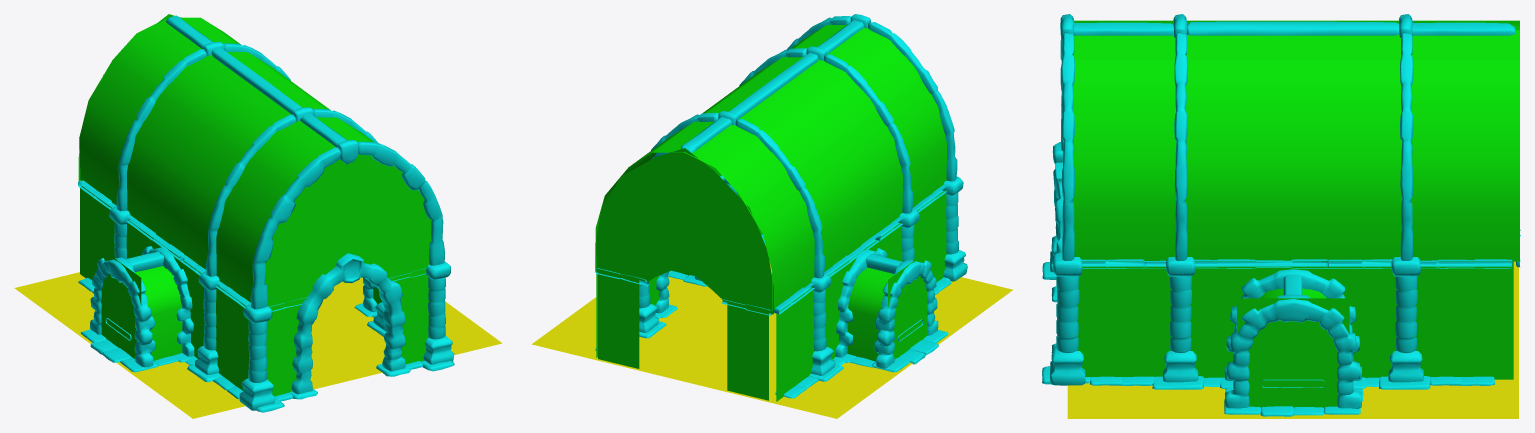
The model's file is Hallway_Straight_1.fbx.
The picture shows the model from 3 angles, left to right: view 1: azimuth 30°, elevation 25°; view 2: azimuth 150°, elevation 25°; view 3: azimuth 270°, elevation 25°; orthographic projection. The views are drawn at different scales.
Parts seen in each view (by area): view 1: Room_Straight_1:StraightPiece_1FinishedRoomsWalls, Room_Straight_1:StraightPiece_1FinishedRoomsFrame, Room_Straight_1:FloorStraightPiece_1FinishedRooms; view 2: Room_Straight_1:StraightPiece_1FinishedRoomsWalls, Room_Straight_1:StraightPiece_1FinishedRoomsFrame, Room_Straight_1:FloorStraightPiece_1FinishedRooms; view 3: Room_Straight_1:StraightPiece_1FinishedRoomsWalls, Room_Straight_1:StraightPiece_1FinishedRoomsFrame, Room_Straight_1:FloorStraightPiece_1FinishedRooms.
Boxes of the visible parts, x1,y1,x2,y2 form: Room_Straight_1:StraightPiece_1FinishedRoomsWalls: (78,14,431,396); Room_Straight_1:StraightPiece_1FinishedRoomsFrame: (78,15,454,412); Room_Straight_1:FloorStraightPiece_1FinishedRooms: (14,272,502,418); Room_Straight_1:StraightPiece_1FinishedRoomsWalls: (595,24,947,401); Room_Straight_1:StraightPiece_1FinishedRoomsFrame: (595,14,967,398); Room_Straight_1:FloorStraightPiece_1FinishedRooms: (531,244,1013,418); Room_Straight_1:StraightPiece_1FinishedRoomsWalls: (1073,20,1519,407); Room_Straight_1:StraightPiece_1FinishedRoomsFrame: (1042,14,1520,416); Room_Straight_1:FloorStraightPiece_1FinishedRooms: (1067,261,1518,418).
Bounding box in the file's own units: 1208 × 896 × 1274.
